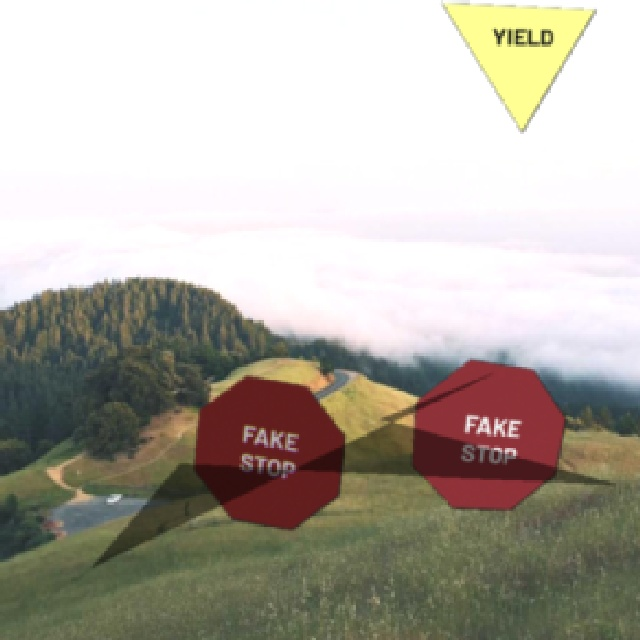FAKE_STOP: (191, 373, 344, 529), (409, 357, 565, 509)
YIELD: (439, 1, 595, 132)
